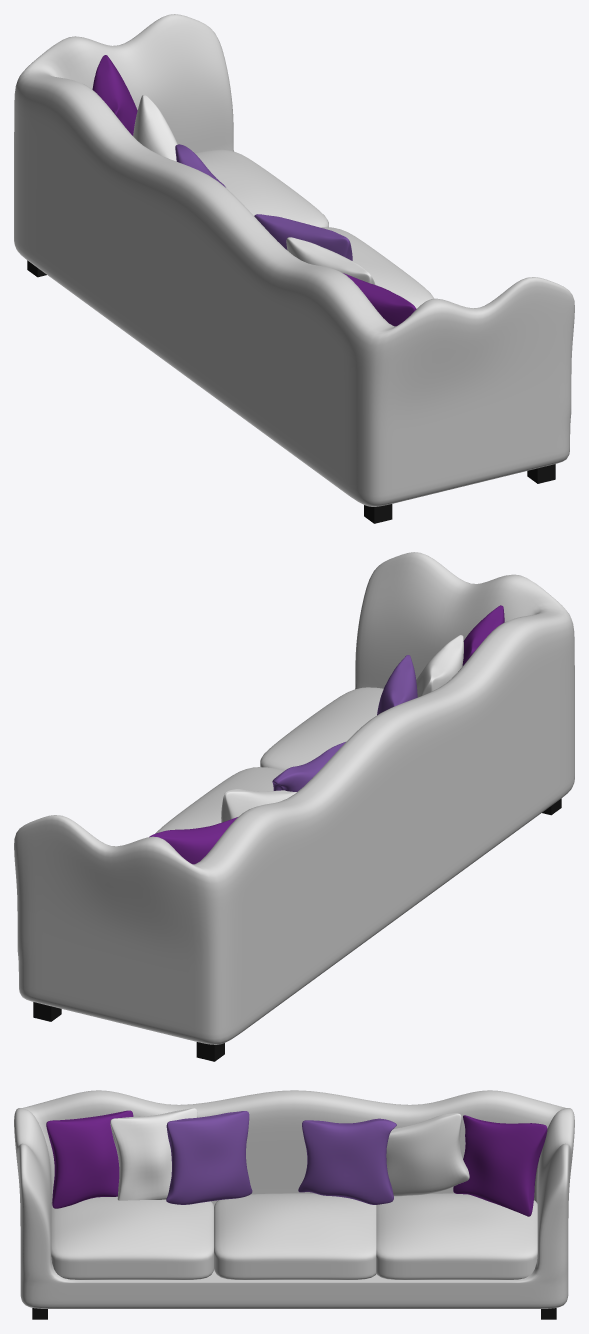
File: Couch3.fbx
3 renders of one model, top to bottom at view 1: azimuth 30°, elevation 25°; view 2: azimuth 150°, elevation 25°; view 3: azimuth 270°, elevation 25°, orthographic. The views are drawn at different scales.
Visible parts, largest first — view 1: Plane, Cube.002, Cube.001, Plane.004, Plane.005, Plane.006, Plane.003, Plane.001, Cube.003; view 2: Plane, Cube, Cube.001, Plane.005, Plane.003, Plane.004, Plane.006, Plane.002, Cube.003, Plane.001; view 3: Plane, Cube.001, Cube.002, Cube, Plane.004, Plane.002, Plane.005, Plane.001, Plane.006, Plane.003, Cube.003.
Part boxes in pixels (x1,y1,x2,y2): Plane: (14, 14, 574, 506); Cube.002: (194, 149, 328, 227); Cube.001: (321, 227, 434, 308); Plane.004: (254, 214, 352, 260); Plane.005: (92, 55, 137, 135); Plane.006: (133, 95, 177, 161); Plane.003: (286, 237, 375, 284); Plane.001: (343, 273, 416, 326); Cube.003: (27, 260, 555, 523); Plane: (14, 552, 574, 1044); Cube: (260, 687, 383, 769); Cube.001: (155, 767, 285, 833); Plane.005: (149, 817, 237, 864); Plane.003: (416, 635, 463, 697); Plane.004: (377, 655, 417, 715); Plane.006: (221, 789, 296, 822); Plane.002: (272, 742, 345, 791); Cube.003: (33, 798, 561, 1061); Plane.001: (462, 605, 504, 665); Plane: (14, 1090, 574, 1308); Cube.001: (214, 1193, 376, 1279); Cube.002: (376, 1193, 537, 1279); Cube: (51, 1196, 213, 1279); Plane.004: (166, 1111, 252, 1204); Plane.002: (298, 1118, 396, 1204); Plane.005: (453, 1115, 547, 1216); Plane.001: (46, 1110, 133, 1208); Plane.006: (386, 1113, 469, 1196); Plane.003: (110, 1108, 197, 1200); Cube.003: (32, 1308, 556, 1319).
Bounding box in the file's own units: 237 × 230 × 724.
